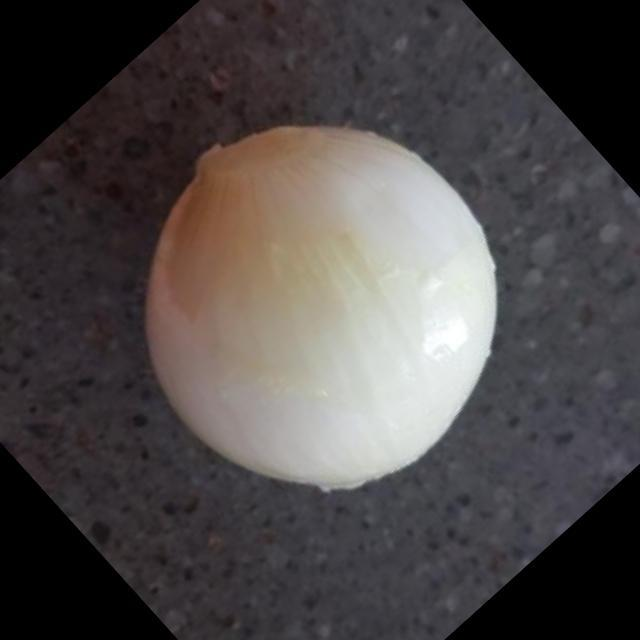Onion: (141, 124, 497, 495)
